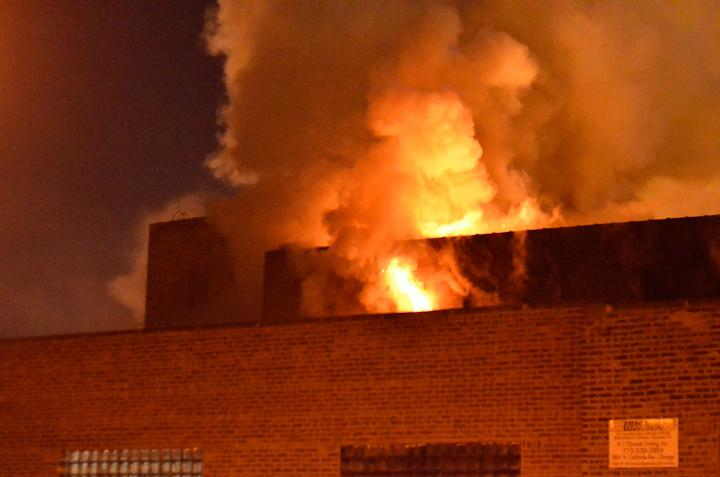fire: (395, 259, 422, 311)
